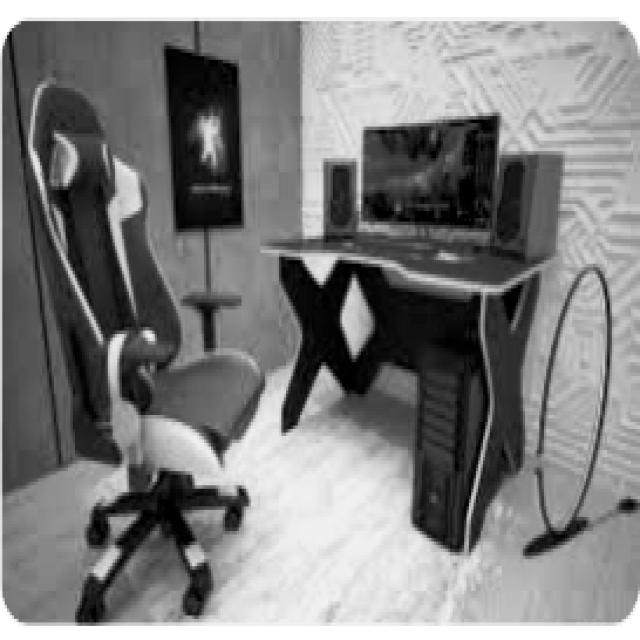book: (26, 77, 265, 619)
table: (258, 232, 558, 552)
